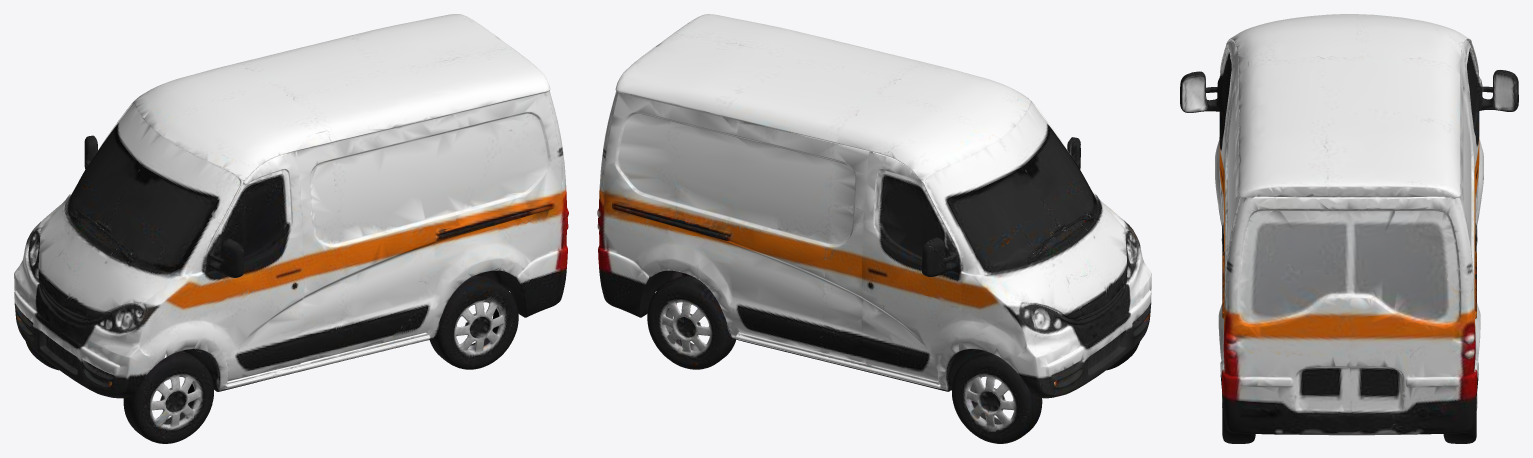
File: th_auto_van.glb
3 views of the same model, side by side, from view 1: azimuth 30°, elevation 25°; view 2: azimuth 150°, elevation 25°; view 3: azimuth 270°, elevation 25° (orthographic). The views are drawn at different scales.
Bounding box in the file's own units: 1.9 × 1.09 × 1.09.
Materials: 1 (1 with a texture image).
